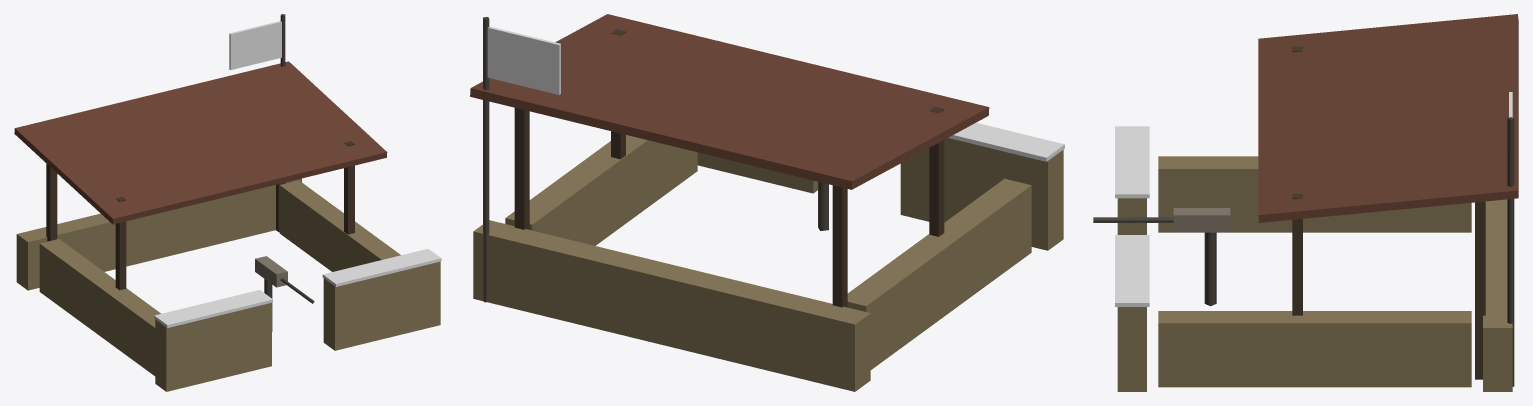
3 views of the same model, side by side, from view 1: azimuth 30°, elevation 25°; view 2: azimuth 150°, elevation 25°; view 3: azimuth 270°, elevation 25° (orthographic). The views are drawn at different scales.
Parts seen in each view (by area): view 1: raider_building_mg_nest; view 2: raider_building_mg_nest; view 3: raider_building_mg_nest.
Part boxes in pixels (x1=…): raider_building_mg_nest: x1=14, y1=14, x2=441, y2=391; raider_building_mg_nest: x1=470, y1=14, x2=1064, y2=391; raider_building_mg_nest: x1=1093, y1=14, x2=1518, y2=391.
Bounding box in the file's own units: 4.8 × 3.4 × 4.89.
